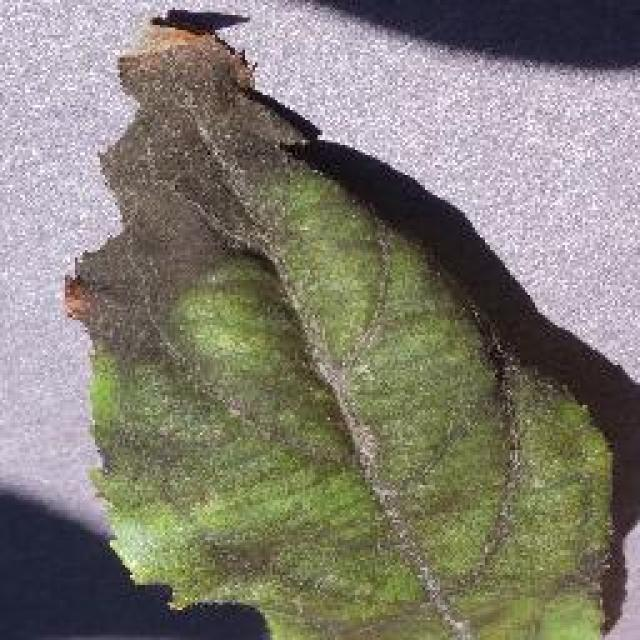apple scab disease: (60, 5, 628, 637)
